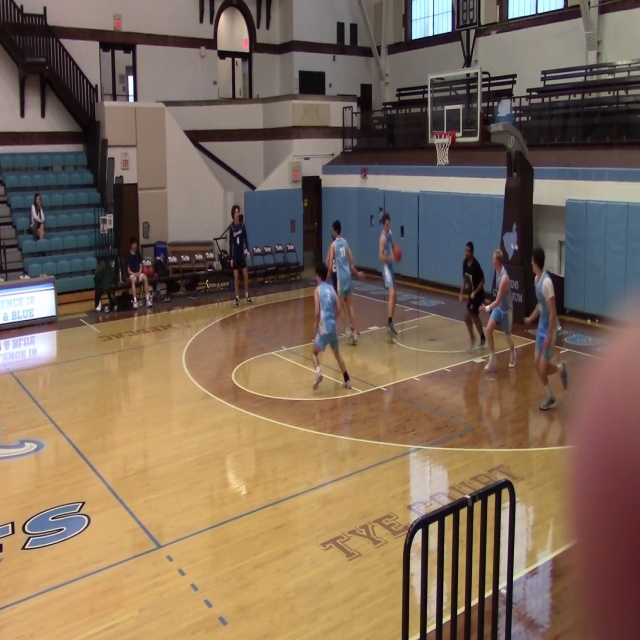Basketball: (392, 245, 401, 262), (143, 266, 154, 276), (357, 271, 365, 281), (480, 305, 488, 313), (485, 305, 491, 313)
